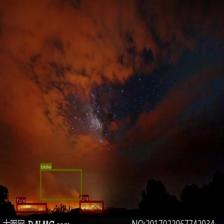fire: (16, 202, 46, 212), (80, 200, 104, 212)
smoke: (40, 169, 82, 200)
